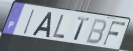A: (31, 12, 52, 38)
B: (84, 18, 108, 46)
F: (101, 21, 127, 47)
I: (22, 8, 36, 36)
L: (51, 14, 66, 40)
T: (72, 16, 91, 42)
